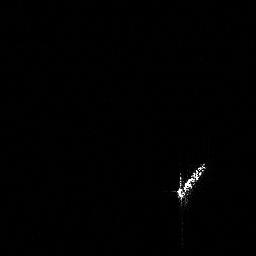ship: (172, 158, 210, 207)
